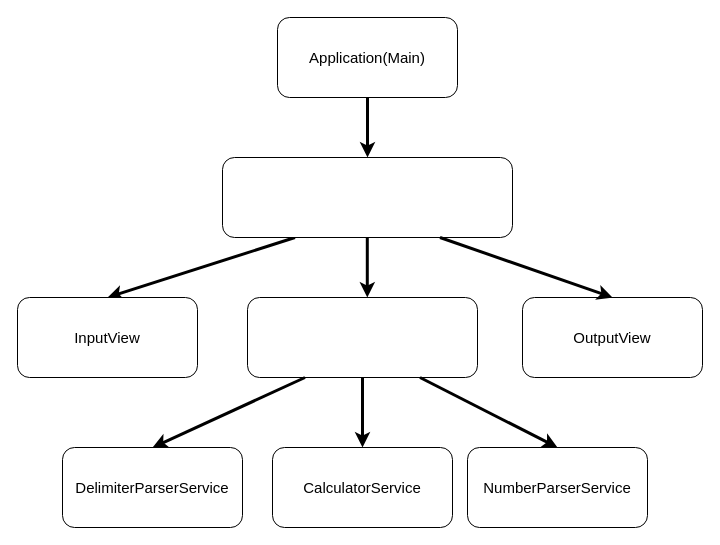
The diagram is 720 pixels wide and 545 high, and some of its shapes have lost their labels. The centre of each missing label's shape, as x and y in pixels:
"StringSumCalculatorController" belongs at (x=367, y=197).
"StringSumCalculatorFacade" belongs at (x=362, y=337).
